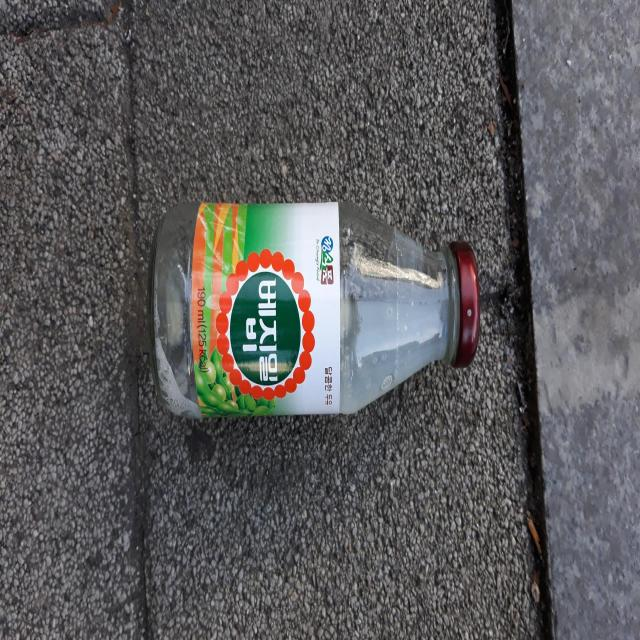glass: (148, 201, 481, 417)
